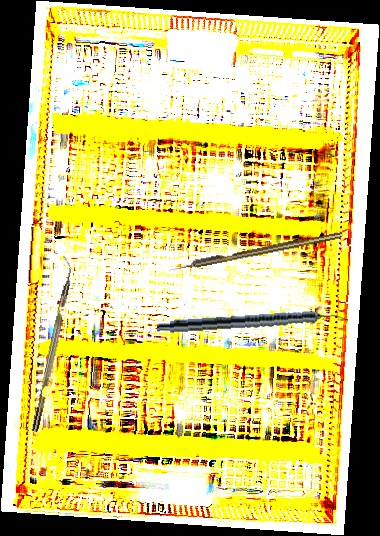Chopper: (23, 255, 78, 433)
Handpiece: (156, 307, 349, 338)
Hook Surgical: (167, 231, 343, 273)
